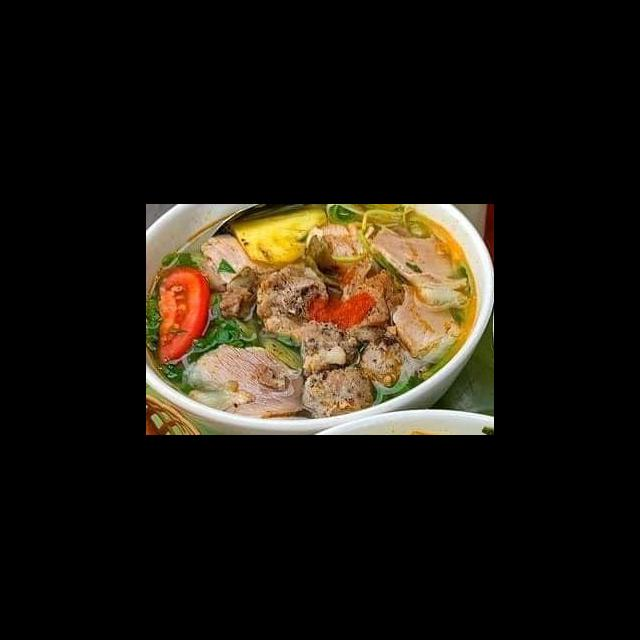thit heo: (178, 342, 310, 419), (368, 224, 472, 316), (387, 280, 461, 358)
vien moc: (299, 364, 380, 422), (351, 336, 426, 394)
